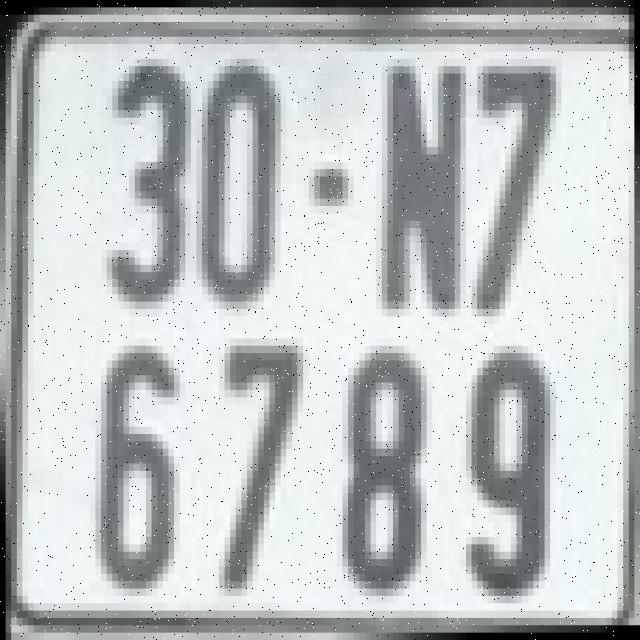0: (197, 66, 280, 302)
3: (107, 62, 191, 306)
6: (96, 346, 180, 588)
7: (474, 59, 558, 316), (219, 338, 303, 588)
8: (342, 350, 427, 592)
9: (463, 346, 553, 596)
N: (379, 59, 463, 309)
